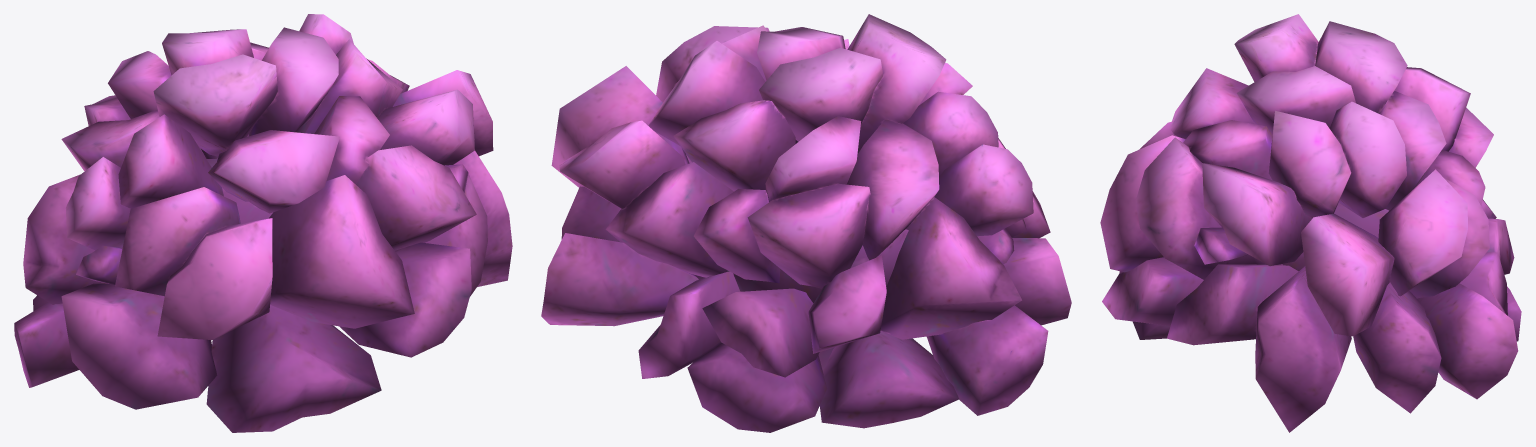
File: Sce_Aquarium_Hawaii01_SeaAnemone04_b.FBX
3 renders of one model, left to right at view 1: azimuth 30°, elevation 25°; view 2: azimuth 150°, elevation 25°; view 3: azimuth 270°, elevation 25°, orthographic. The views are drawn at different scales.
Parts seen in each view (by area): view 1: Sce_Aquarium_Hawaii01_SeaAnemone04_b; view 2: Sce_Aquarium_Hawaii01_SeaAnemone04_b; view 3: Sce_Aquarium_Hawaii01_SeaAnemone04_b.
Boxes of the visible parts, bbox=[...] form: Sce_Aquarium_Hawaii01_SeaAnemone04_b: bbox=[14, 14, 512, 432]; Sce_Aquarium_Hawaii01_SeaAnemone04_b: bbox=[541, 14, 1071, 432]; Sce_Aquarium_Hawaii01_SeaAnemone04_b: bbox=[1100, 14, 1521, 432].
Bounding box in the file's own units: 0.6782 × 0.4376 × 0.5381.
